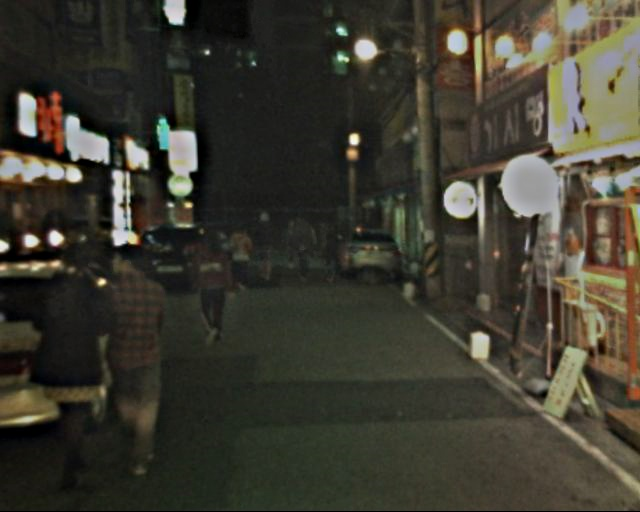person: (89, 245, 184, 470), (36, 231, 115, 486), (188, 222, 238, 352), (227, 216, 261, 293), (253, 207, 285, 286), (288, 211, 313, 285), (317, 221, 342, 289)
